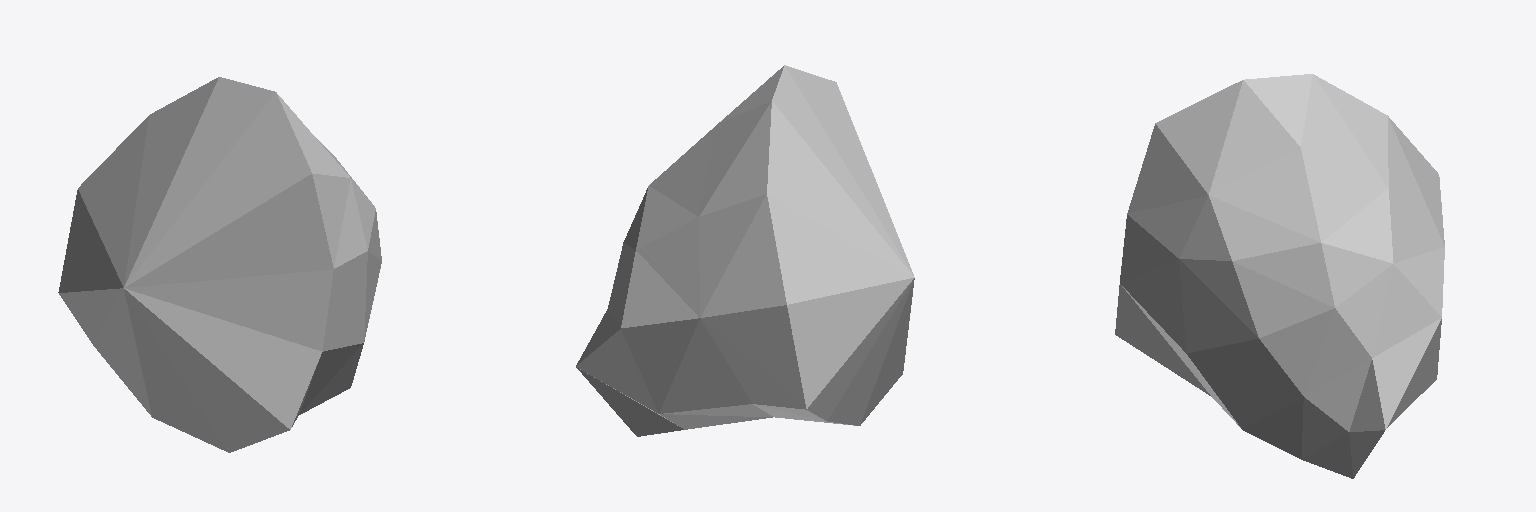
File: bossLLegTop.obj
3 views of the same model, side by side, from view 1: azimuth 30°, elevation 25°; view 2: azimuth 150°, elevation 25°; view 3: azimuth 270°, elevation 25° (orthographic).
Visible parts, largest first — view 1: bossLLegTop; view 2: bossLLegTop; view 3: bossLLegTop.
Boxes of the visible parts, x1,y1,x2,y2 form: bossLLegTop: [58, 77, 381, 452]; bossLLegTop: [576, 65, 914, 436]; bossLLegTop: [1115, 74, 1444, 478].
Bounding box in the file's own units: 123 × 149 × 126.